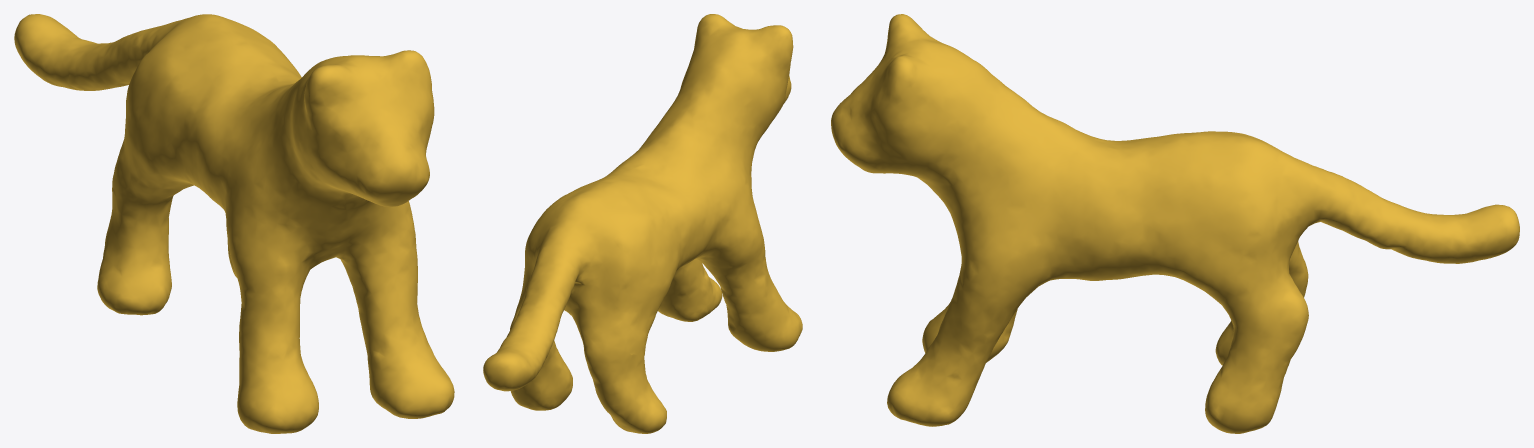
The picture shows the model from 3 angles, left to right: view 1: azimuth 30°, elevation 25°; view 2: azimuth 150°, elevation 25°; view 3: azimuth 270°, elevation 25°; orthographic projection. The views are drawn at different scales.
Parts seen in each view (by area): view 1: Object_2; view 2: Object_2; view 3: Object_2.
Part boxes in pixels (x1,y1,x2,y2): Object_2: (14,14,454,433); Object_2: (483,14,802,433); Object_2: (831,14,1519,433).
Size of the model in its own units: 0.3271 by 0.5676 by 1.
